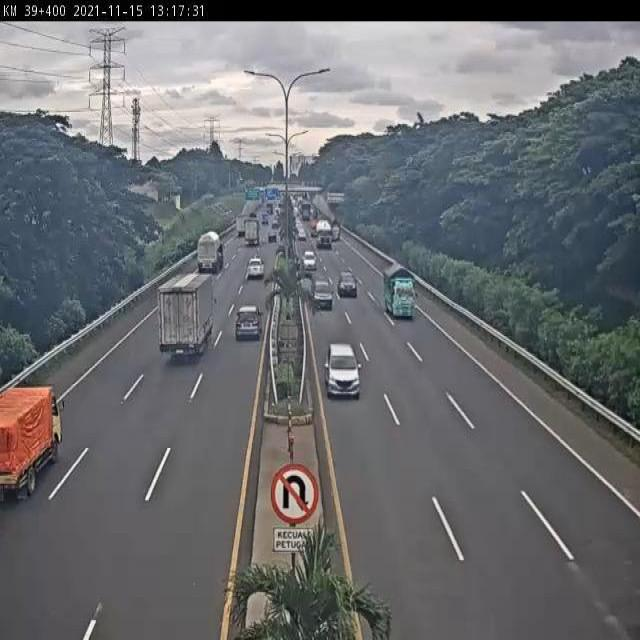car: (323, 341, 363, 400), (232, 303, 264, 344), (312, 279, 333, 312), (335, 270, 359, 298), (245, 256, 266, 280), (302, 250, 319, 274)
truck-l-: (195, 229, 224, 275)
truck-m-: (156, 271, 214, 356), (381, 264, 417, 316)
truck-s-: (0, 384, 66, 500)
